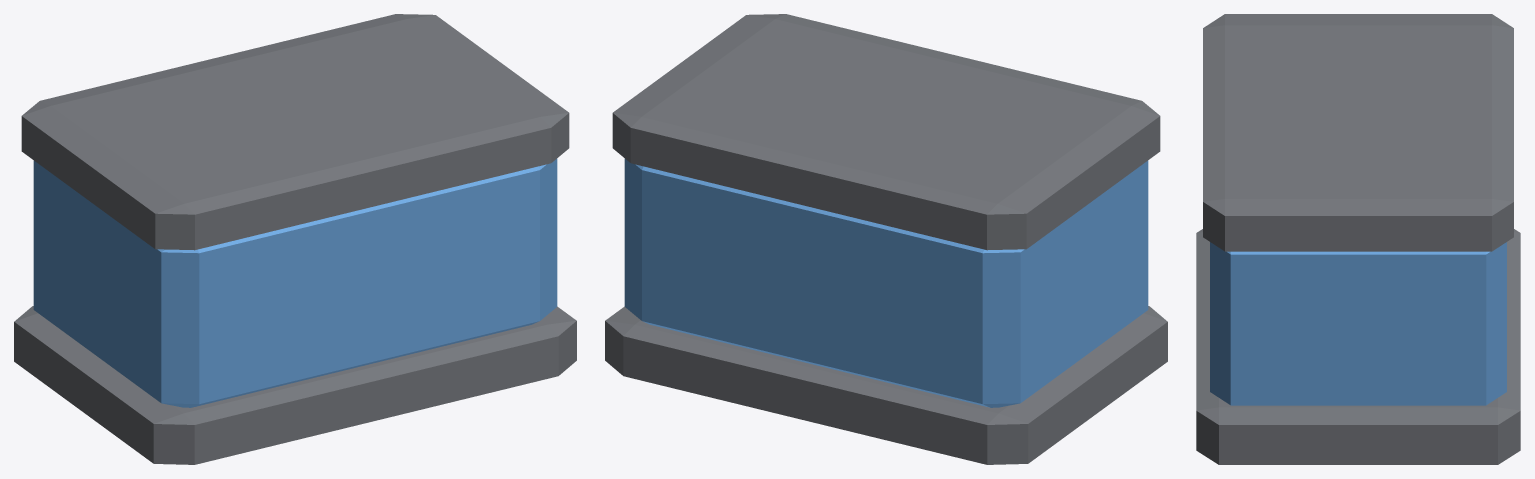
The model's file is b09_accessible_sand_table.glb.
3 renders of one model, left to right at view 1: azimuth 30°, elevation 25°; view 2: azimuth 150°, elevation 25°; view 3: azimuth 270°, elevation 25°, orthographic.
Parts seen in each view (by area): view 1: b09_accessible_sand_table; view 2: b09_accessible_sand_table; view 3: b09_accessible_sand_table.
Boxes of the visible parts, x1,y1,x2,y2 form: b09_accessible_sand_table: (14,14,576,464); b09_accessible_sand_table: (605,14,1167,464); b09_accessible_sand_table: (1196,14,1520,464).
Bounding box in the file's own units: 1.61 × 0.92 × 1.07.
